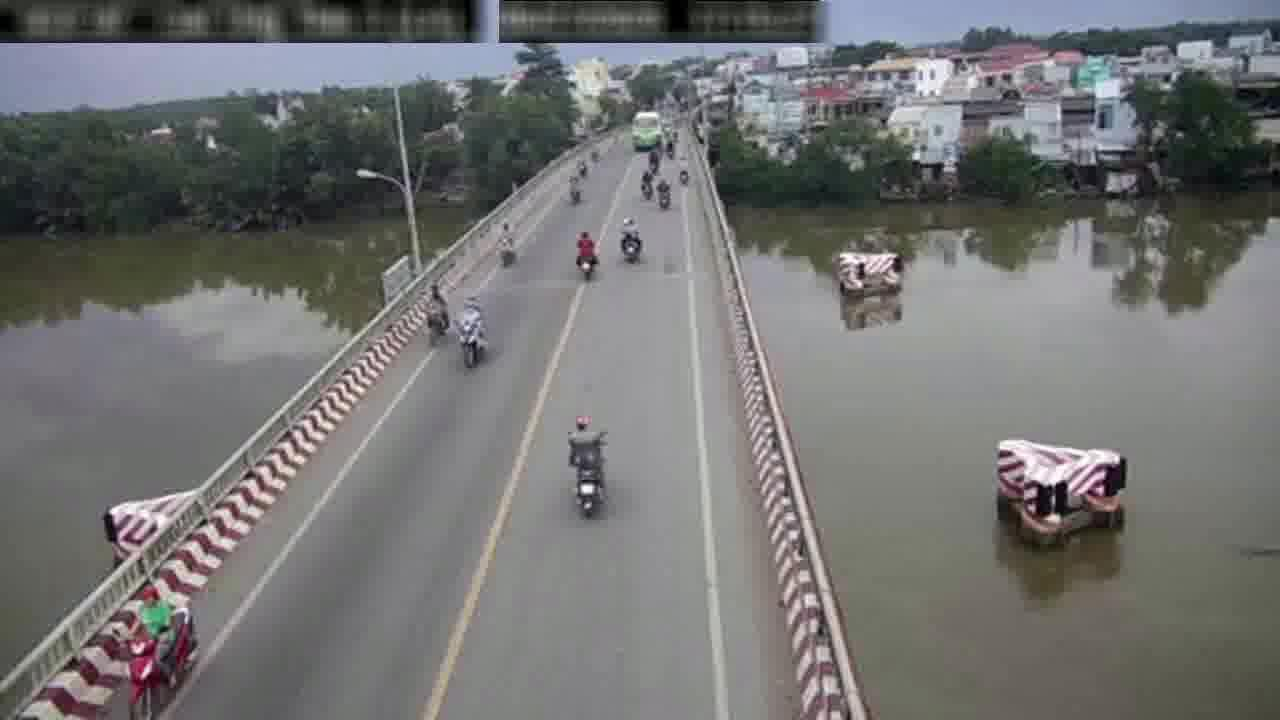motorbike: (123, 583, 190, 720), (565, 410, 609, 528), (455, 292, 485, 366), (424, 275, 448, 351), (574, 227, 597, 281), (618, 215, 643, 264), (496, 216, 517, 268), (656, 175, 671, 211), (640, 168, 653, 203)
passenger_car: (630, 107, 664, 155)
